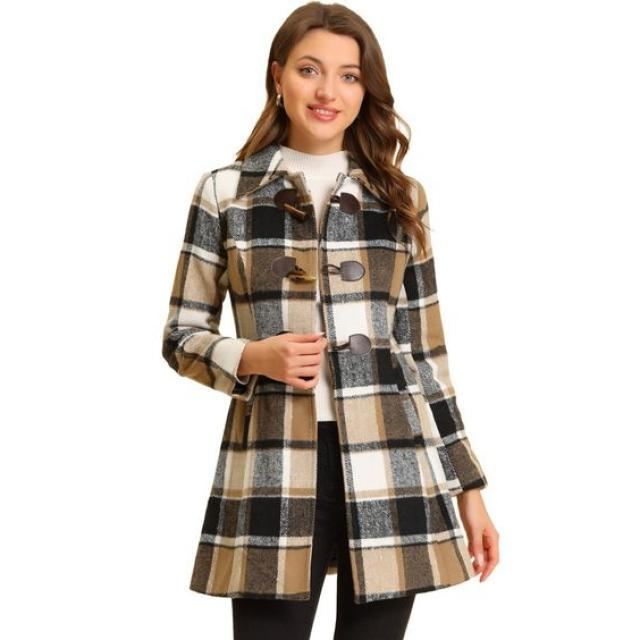coat: (157, 144, 490, 608)
short sleeve shirt: (266, 148, 359, 420)
trousers: (223, 418, 418, 640)
